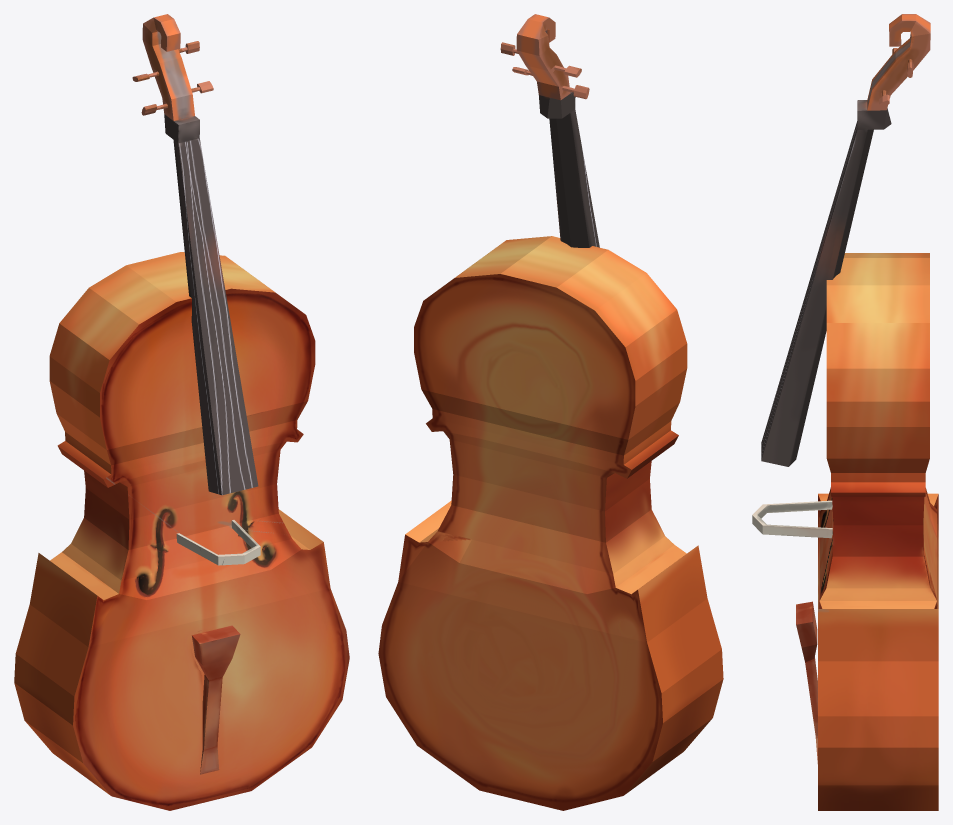
File: cello.fbx
3 views of the same model, side by side, from view 1: azimuth 30°, elevation 25°; view 2: azimuth 150°, elevation 25°; view 3: azimuth 270°, elevation 25° (orthographic). The views are drawn at different scales.
Parts seen in each view (by area): view 1: violoncelo; view 2: violoncelo; view 3: violoncelo.
Boxes of the visible parts, x1,y1,x2,y2 form: violoncelo: (14,14,349,810); violoncelo: (378,14,723,810); violoncelo: (752,14,938,810).
Size of the model in its own units: 29.01 by 75.2 by 16.47.
